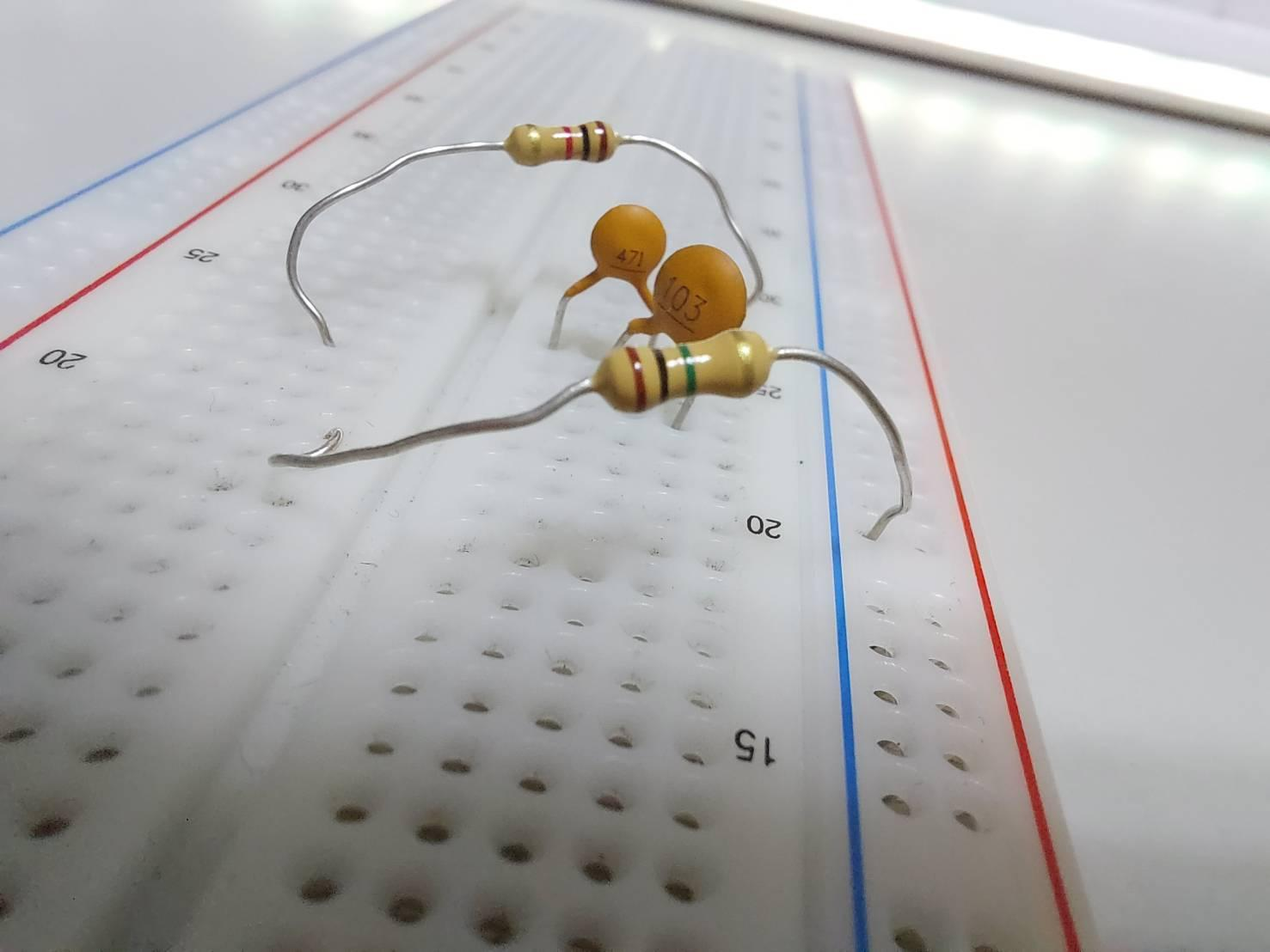resistor: (594, 339, 788, 404), (504, 120, 622, 167)
